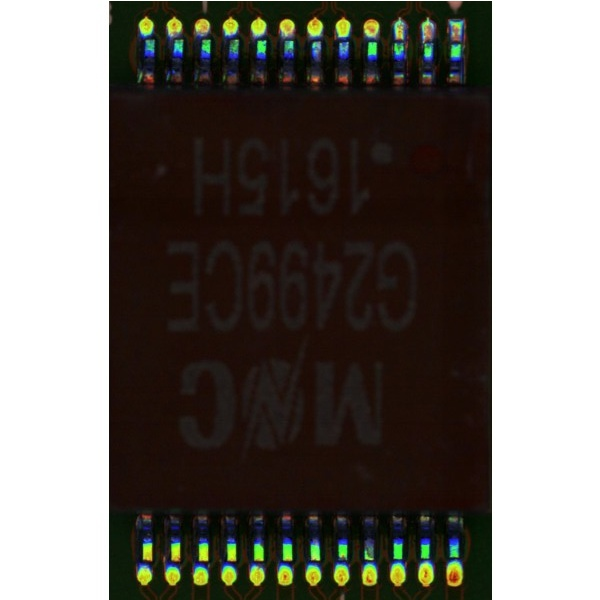Bad_podu: (451, 28, 461, 48), (396, 29, 404, 47), (424, 29, 432, 47)
